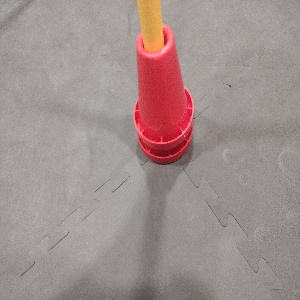Red_2: (126, 24, 197, 162)
